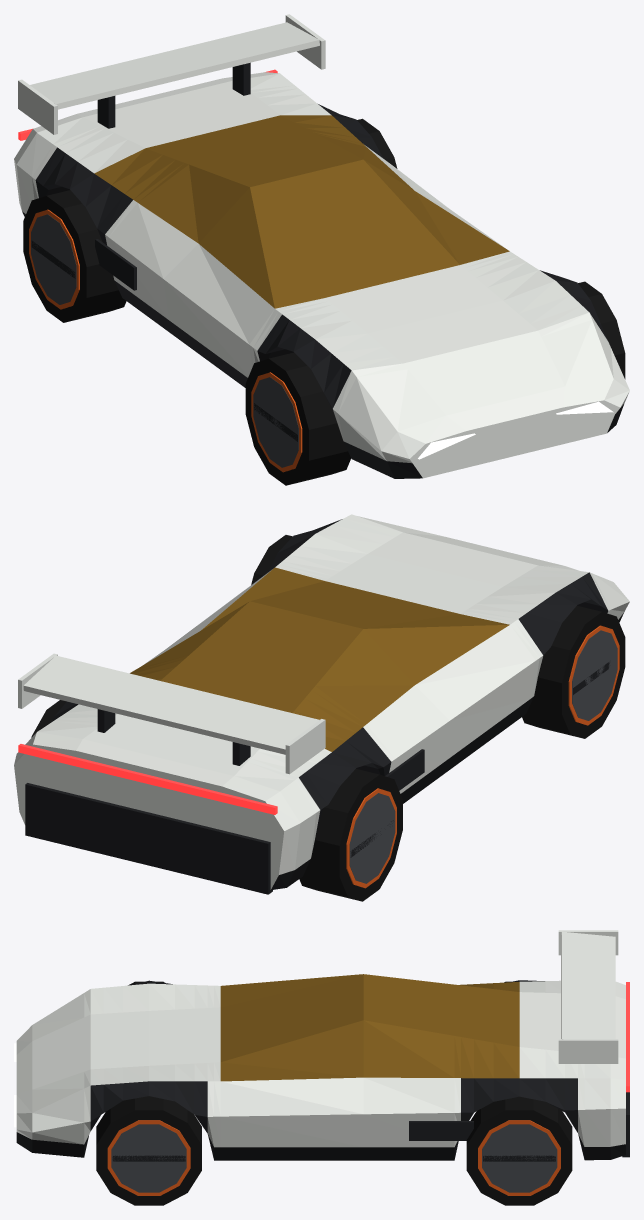
Rendered from roadster-low.glb.
The picture shows the model from 3 angles, top to bottom: view 1: azimuth 30°, elevation 25°; view 2: azimuth 150°, elevation 25°; view 3: azimuth 270°, elevation 25°; orthographic projection. The views are drawn at different scales.
Visible parts, largest first — view 1: roadster-paint, roadster-glass, roadster-ink, roadster-tyre, roadster-rim, roadster-ring, roadster-headlight; view 2: roadster-paint, roadster-glass, roadster-ink, roadster-tyre, roadster-rim, roadster-taillight, roadster-ring; view 3: roadster-paint, roadster-glass, roadster-ink, roadster-tyre, roadster-rim, roadster-ring, roadster-taillight.
Boxes of the visible parts, left/top/right/bottom form: roadster-paint: left=14, top=14, right=629, bottom=478; roadster-glass: left=94, top=115, right=509, bottom=308; roadster-ink: left=22, top=62, right=623, bottom=478; roadster-tyre: left=23, top=118, right=625, bottom=485; roadster-rim: left=31, top=214, right=298, bottom=467; roadster-ring: left=29, top=209, right=302, bottom=472; roadster-headlight: left=418, top=401, right=613, bottom=459; roadster-paint: left=14, top=514, right=629, bottom=889; roadster-glass: left=130, top=567, right=509, bottom=751; roadster-ink: left=25, top=519, right=623, bottom=894; roadster-tyre: left=31, top=535, right=625, bottom=901; roadster-rim: left=349, top=630, right=617, bottom=883; roadster-taillight: left=18, top=744, right=277, bottom=814; roadster-ring: left=346, top=625, right=619, bottom=888; roadster-paint: left=16, top=930, right=625, bottom=1147; roadster-glass: left=220, top=974, right=519, bottom=1081; roadster-ink: left=16, top=980, right=629, bottom=1161; roadster-tyre: left=96, top=981, right=572, bottom=1205; roadster-rim: left=111, top=1124, right=557, bottom=1192; roadster-ring: left=107, top=1120, right=560, bottom=1195; roadster-taillight: left=626, top=982, right=629, bottom=1092.
Bounding box in the file's own units: 2.36 × 1.33 × 4.74.
